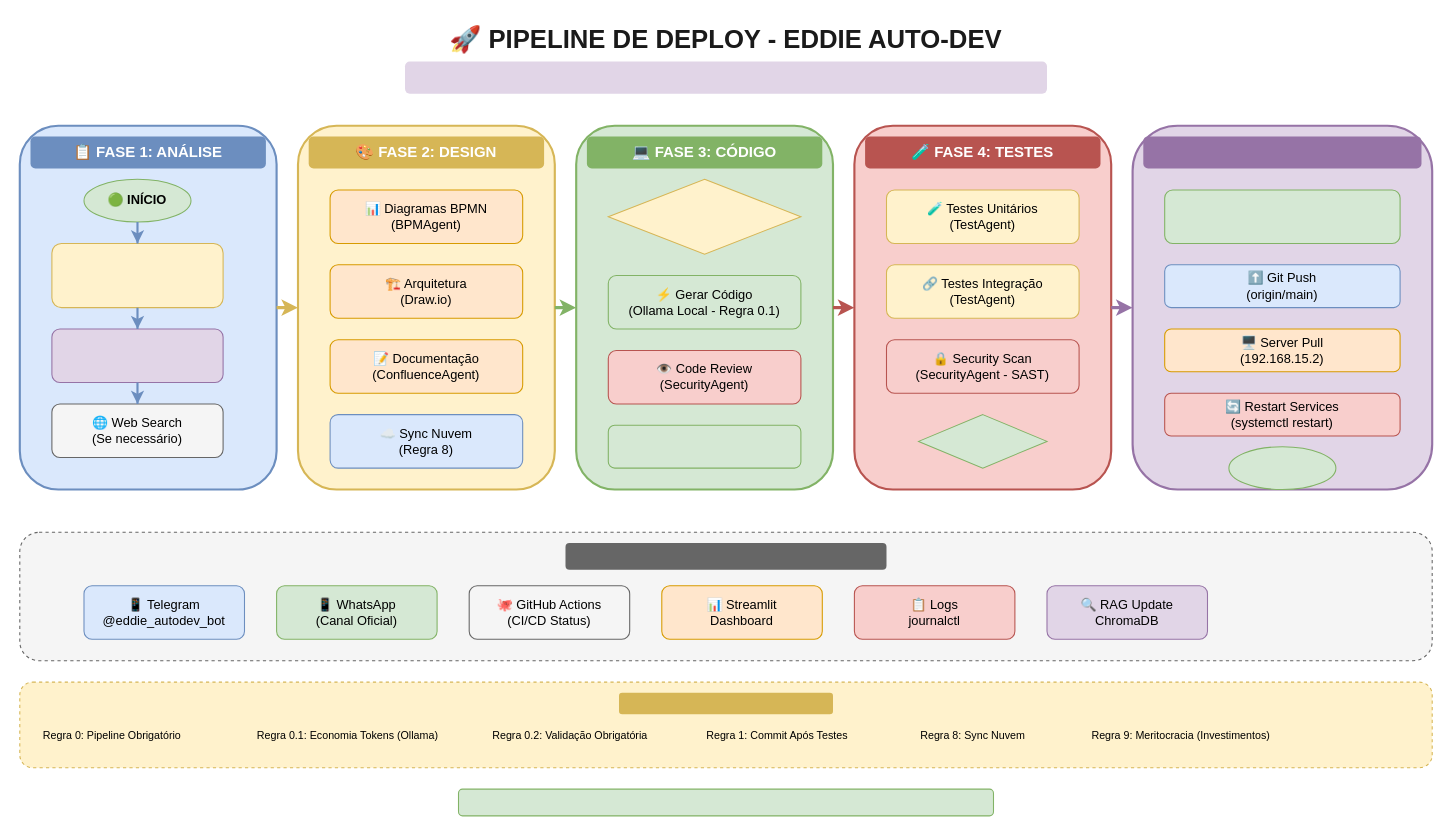
The diagram is 1451 pixels wide and 835 high, and some of its shapes have lost their labels. The centre of each missing label's shape, as x and y in pixels:
"Fluxo: Análise → Design → Código → Testes → Deploy (Regra 0)" goes at pixel 725 77.
"✅ Passou?" goes at pixel 982 441.
"✅ Validar (Regra 0.2)" goes at pixel 704 446.
"🏁 FIM" goes at pixel 1282 468.
"📊 Pipeline Version: 1.0.0 | Última execução: 2025-01-16 | Status: ✅ Ativo" goes at pixel 725 802.
"📜 REGRAS APLICADAS" goes at pixel 725 703.
"📝 Análise de Requisitos (RequirementsAnalyst)" goes at pixel 137 275.
"📦 Git Commit (Regra 1 - Obrigatório)" goes at pixel 1282 216.
"📱 NOTIFICAÇÕES (Communication Bus)" goes at pixel 725 555.
"🔍 Busca RAG (Contexto Local)" goes at pixel 137 355.
"🚀 FASE 5: DEPLOY" goes at pixel 1282 152.
"🤖 Selecionar Agent (Por Linguagem)" goes at pixel 704 216.
